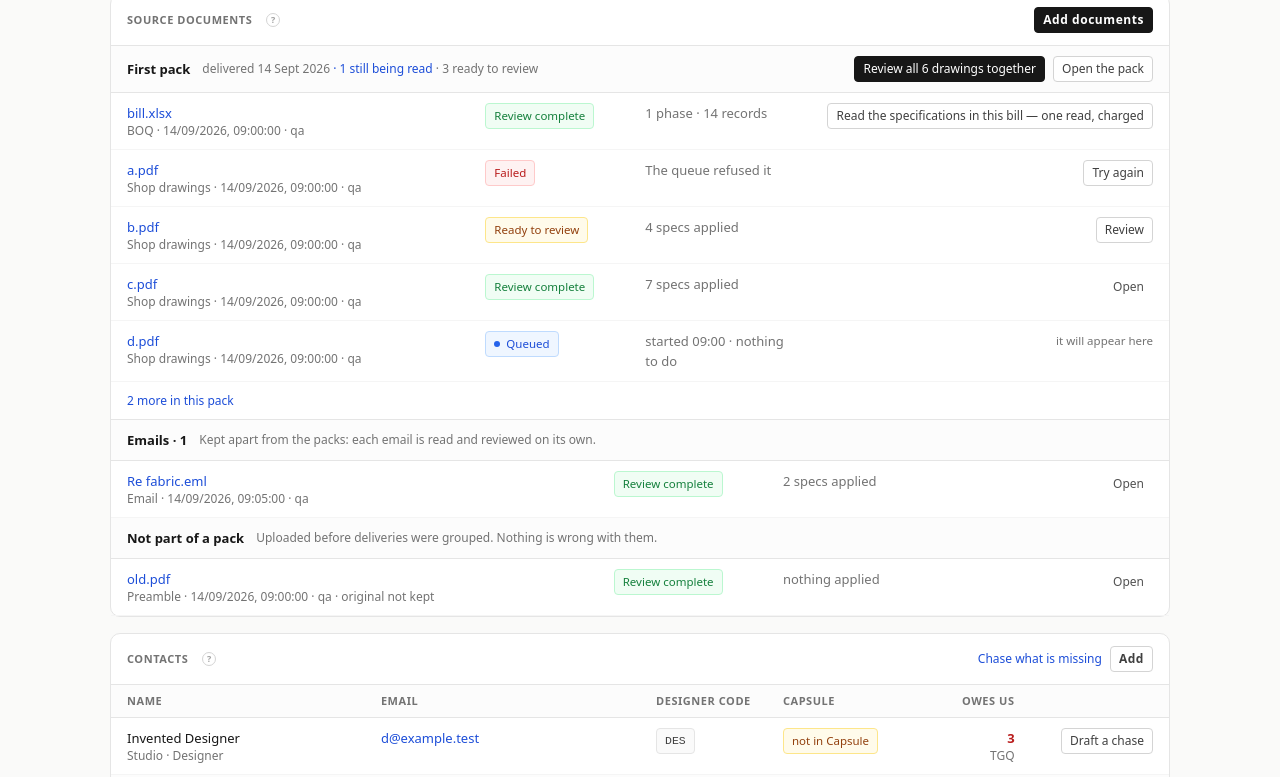
it: the overview › groups documents by pack, folds the sixth, and says what each produced
(page scrolled)
Expected: the text "First pack" is shown, 127,58 -> 190,78
Expected: the text "Not part of a pack" is shown, 127,528 -> 244,548
Click the button "2 more in this pack" at (180, 400), box 127,390 -> 234,410
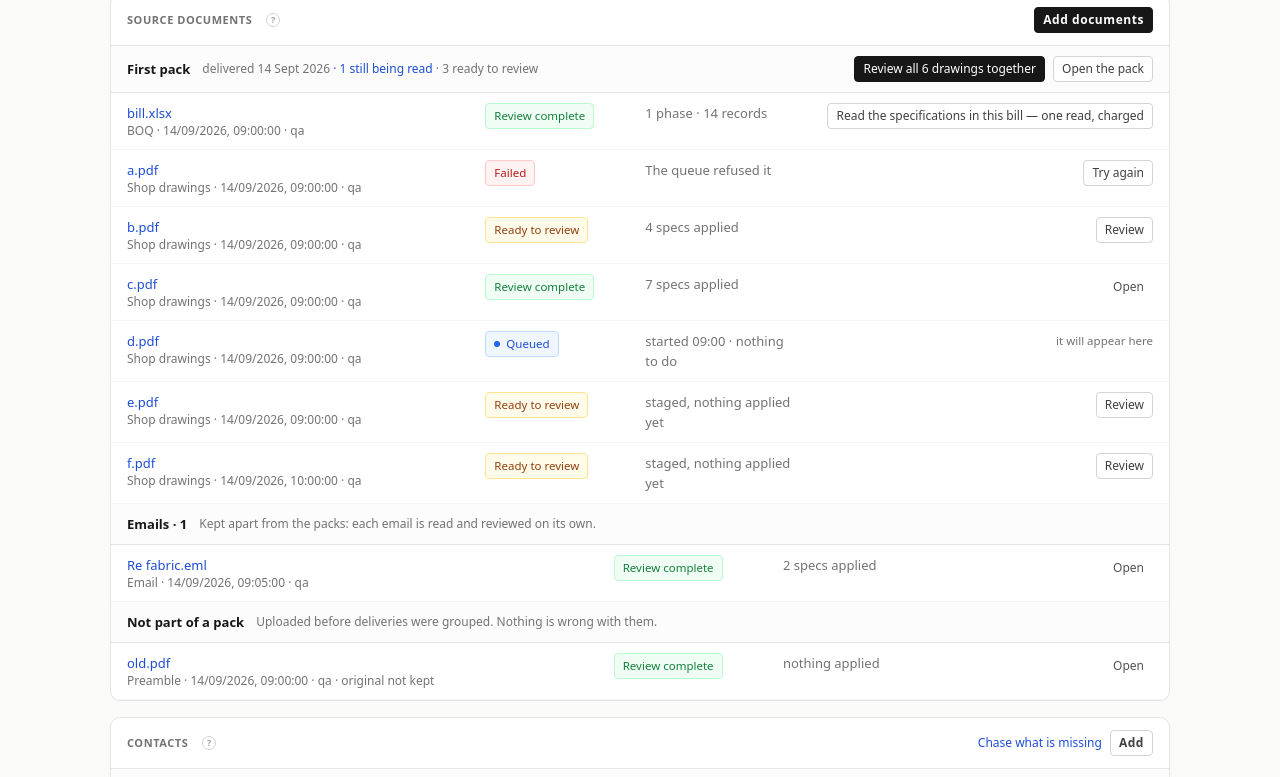
Expected: the link "f.pdf" is shown, 127,454 -> 155,472
